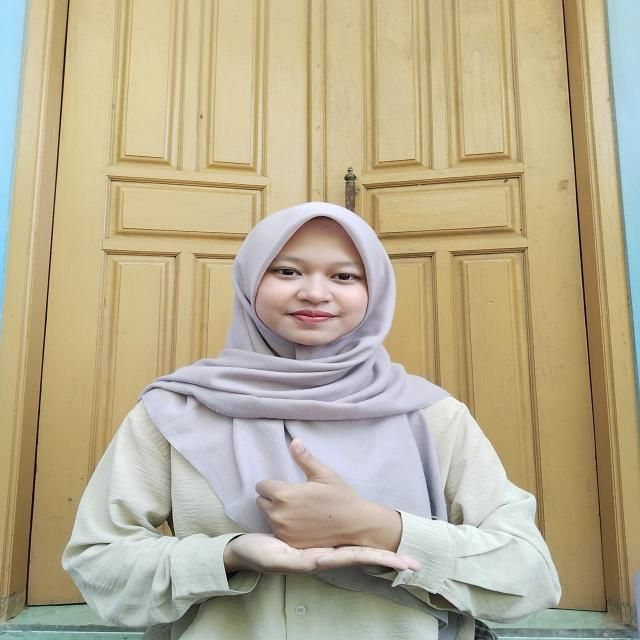cantik: (190, 433, 412, 583)
